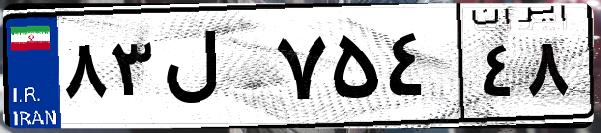3: (110, 28, 158, 98)
4: (385, 28, 445, 110), (475, 38, 525, 113)
5: (330, 28, 385, 110)
7: (270, 28, 330, 110)
8: (57, 26, 110, 100), (525, 38, 570, 115)
ل: (158, 20, 270, 120)
